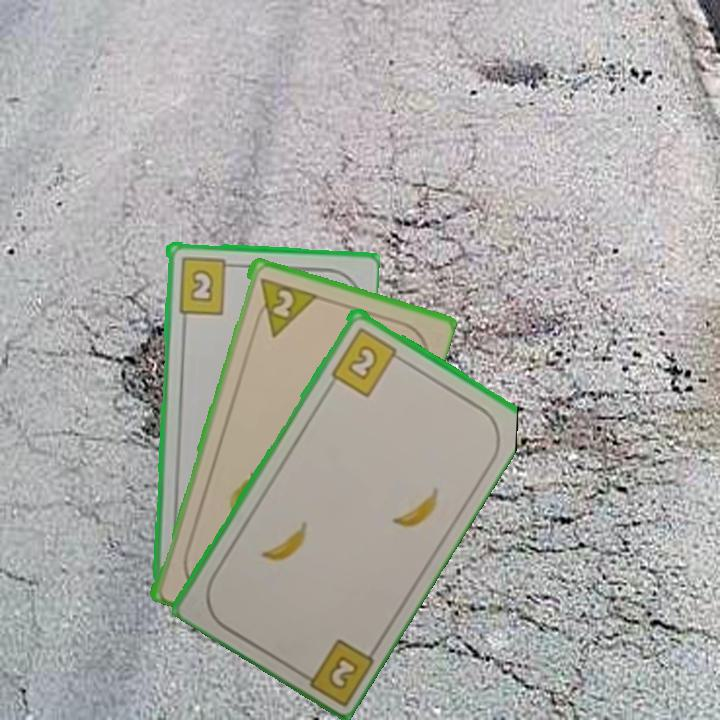2b: (327, 323, 406, 399), (292, 634, 376, 705), (174, 253, 238, 316)
2p: (268, 285, 297, 320)
